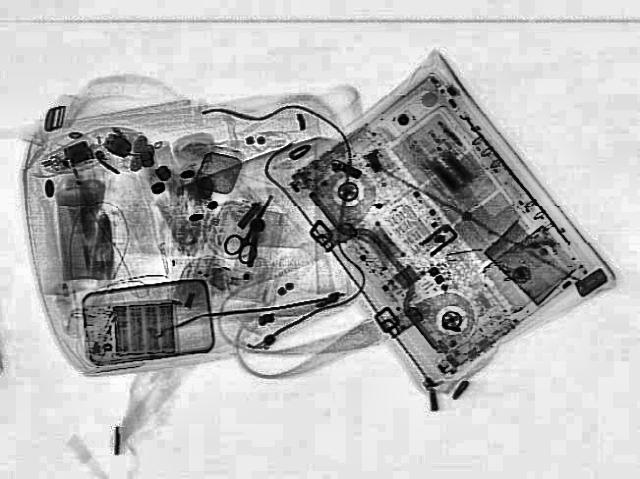Scissors: (213, 189, 291, 265)
